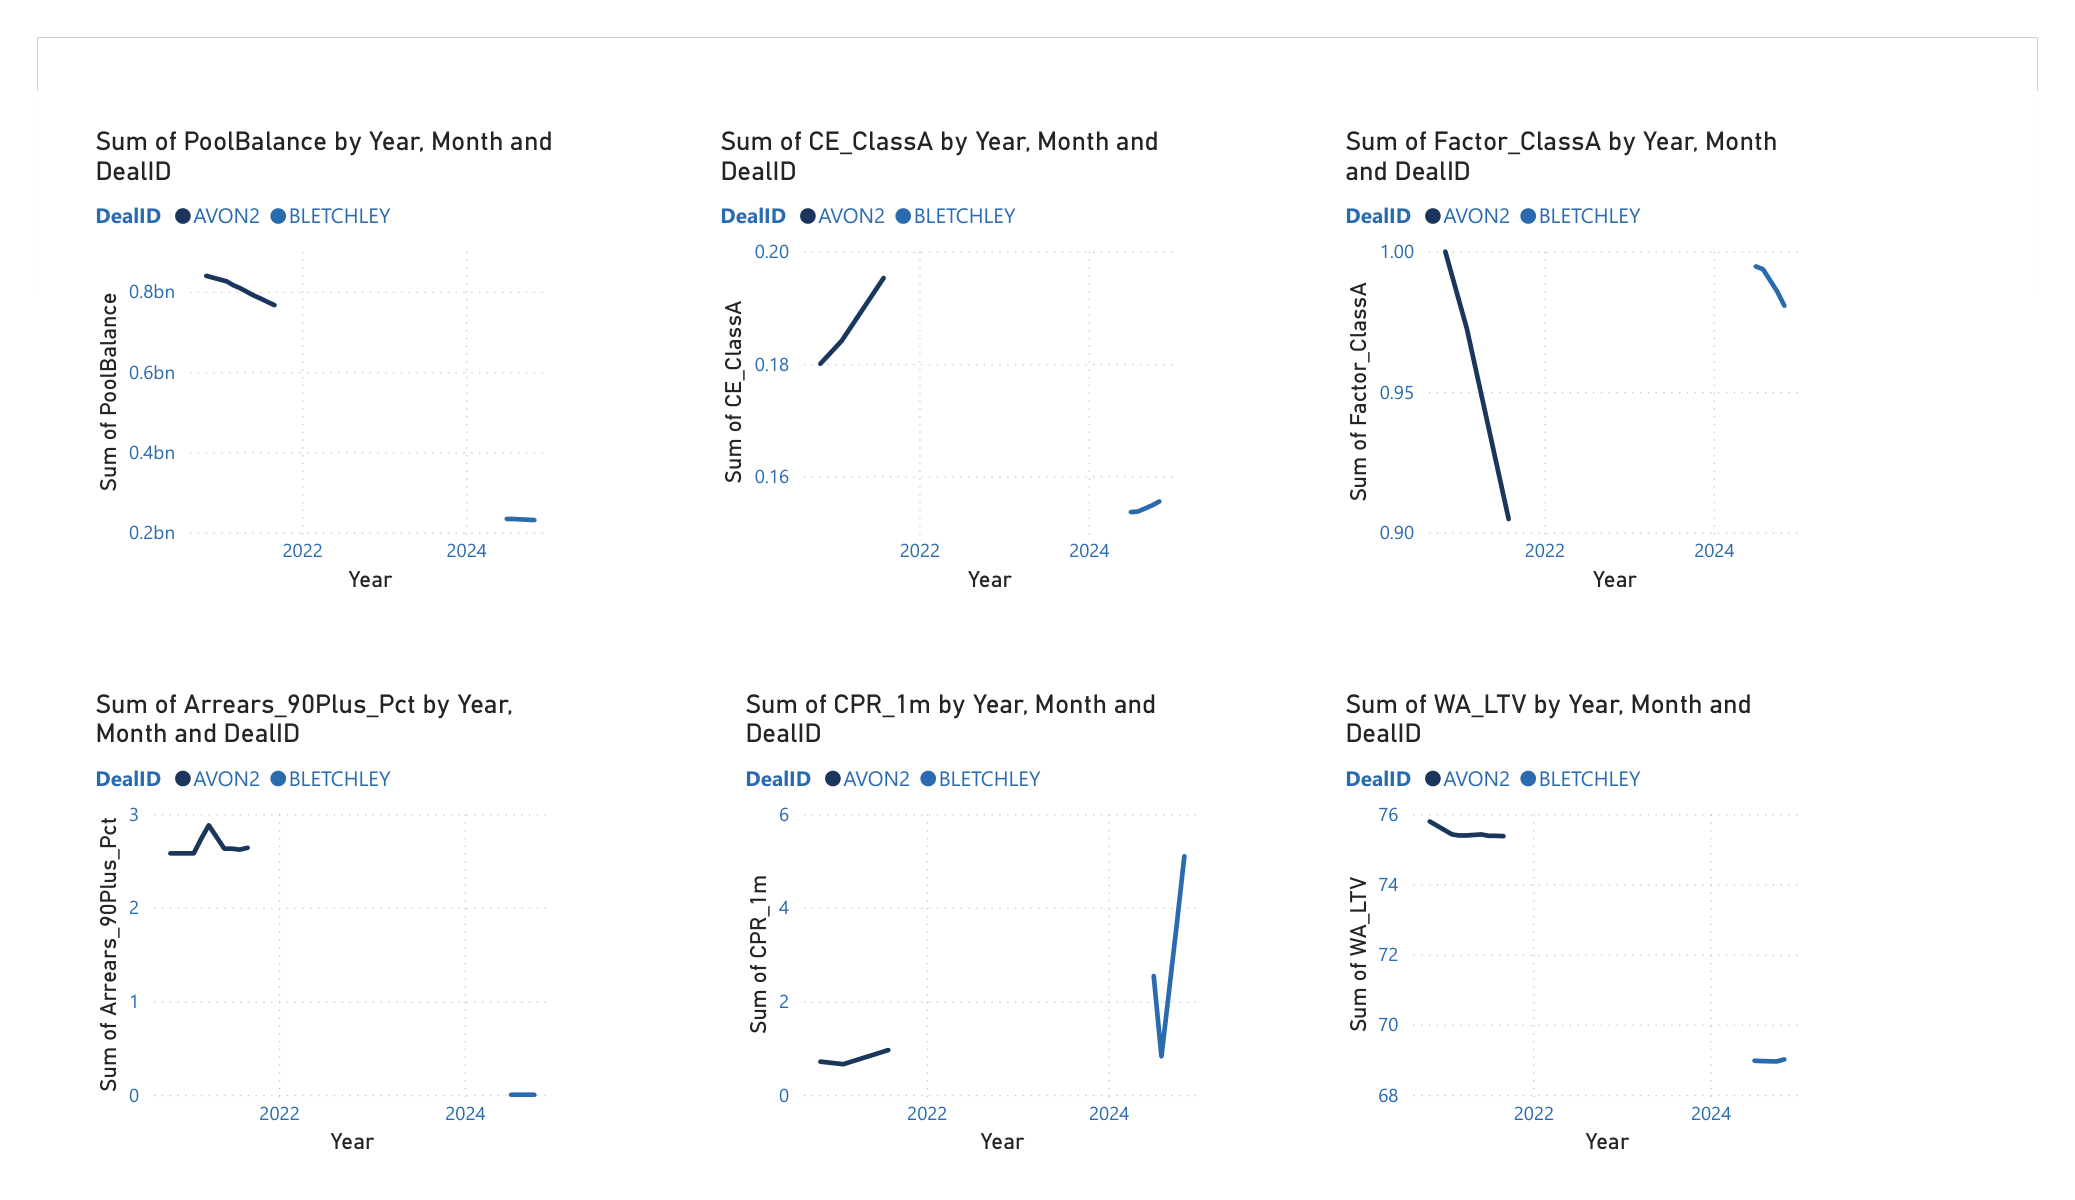

This screenshot's page, from the dashboard's own definition file:
{"tool":"powerbi","page":{"name":"Time Series","canvas":[1280,720],"ordinal":2},"visuals":[{"type":"lineChart","fields":{"Y":["Sum(investor_report_metrics (2).Arrears_90Plus_Pct)"],"Category":["investor_report_metrics (2).CutoffDate.Variation.Date Hierarchy.Year","investor_report_metrics (2).CutoffDate.Variation.Date Hierarchy.Month"],"Series":["investor_report_metrics (2).DealID"]},"box":[32,416,304,304],"z":3001},{"type":"lineChart","fields":{"Y":["Sum(investor_report_metrics (2).Factor_ClassA)"],"Category":["investor_report_metrics (2).CutoffDate.Variation.Date Hierarchy.Year","investor_report_metrics (2).CutoffDate.Variation.Date Hierarchy.Month"],"Series":["investor_report_metrics (2).DealID"]},"box":[832,56,304,304],"z":3002},{"type":"lineChart","fields":{"Y":["Sum(investor_report_metrics (2).CE_ClassA)"],"Category":["investor_report_metrics (2).CutoffDate.Variation.Date Hierarchy.Year","investor_report_metrics (2).CutoffDate.Variation.Date Hierarchy.Month"],"Series":["investor_report_metrics (2).DealID"]},"box":[432,56,304,304],"z":3003},{"type":"lineChart","fields":{"Y":["Sum(investor_report_metrics (2).PoolBalance)"],"Category":["investor_report_metrics (2).CutoffDate.Variation.Date Hierarchy.Year","investor_report_metrics (2).CutoffDate.Variation.Date Hierarchy.Month"],"Series":["investor_report_metrics (2).DealID"]},"box":[32,56,304,304],"z":3004},{"type":"lineChart","fields":{"Y":["Sum(investor_report_metrics (2).CPR_1m)"],"Category":["investor_report_metrics (2).CutoffDate.Variation.Date Hierarchy.Year","investor_report_metrics (2).CutoffDate.Variation.Date Hierarchy.Month"],"Series":["investor_report_metrics (2).DealID"]},"box":[448,416,304,304],"z":3005},{"type":"lineChart","fields":{"Y":["Sum(investor_report_metrics (2).WA_LTV)"],"Category":["investor_report_metrics (2).CutoffDate.Variation.Date Hierarchy.Year","investor_report_metrics (2).CutoffDate.Variation.Date Hierarchy.Month"],"Series":["investor_report_metrics (2).DealID"]},"box":[832,416,304,304],"z":3006}]}

Visuals, with their boxes on the page's 1280x720 design canvas (x1, y1, x2, y2). These are canvas units, not pixel positions in the 2075x1200 screenshot, which may show the page scaled, cropped or inside an application window:
lineChart - Sum(investor_report_metrics (2).Arrears_90Plus_Pct) x investor_report_metrics (2).CutoffDate.Variation.Date Hierarchy.Year: bbox=(32, 416, 336, 720)
lineChart - Sum(investor_report_metrics (2).Factor_ClassA) x investor_report_metrics (2).CutoffDate.Variation.Date Hierarchy.Year: bbox=(832, 56, 1136, 360)
lineChart - Sum(investor_report_metrics (2).CE_ClassA) x investor_report_metrics (2).CutoffDate.Variation.Date Hierarchy.Year: bbox=(432, 56, 736, 360)
lineChart - Sum(investor_report_metrics (2).PoolBalance) x investor_report_metrics (2).CutoffDate.Variation.Date Hierarchy.Year: bbox=(32, 56, 336, 360)
lineChart - Sum(investor_report_metrics (2).CPR_1m) x investor_report_metrics (2).CutoffDate.Variation.Date Hierarchy.Year: bbox=(448, 416, 752, 720)
lineChart - Sum(investor_report_metrics (2).WA_LTV) x investor_report_metrics (2).CutoffDate.Variation.Date Hierarchy.Year: bbox=(832, 416, 1136, 720)
